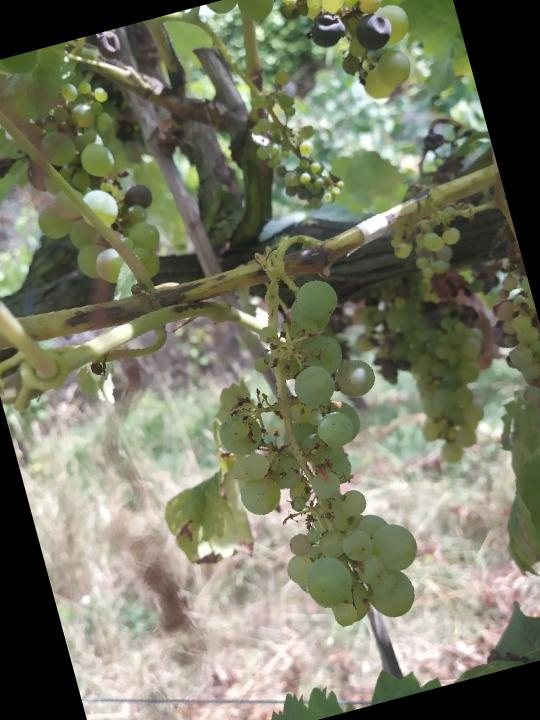grape: (184, 269, 442, 653)
